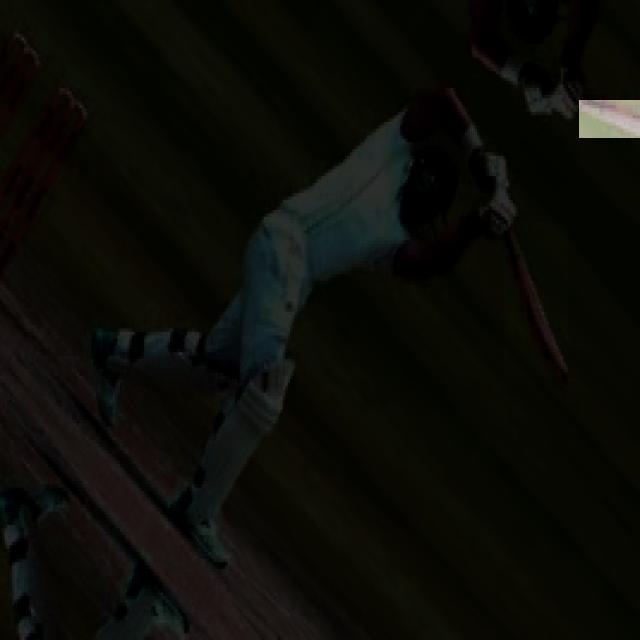bat: (577, 99, 640, 139)
